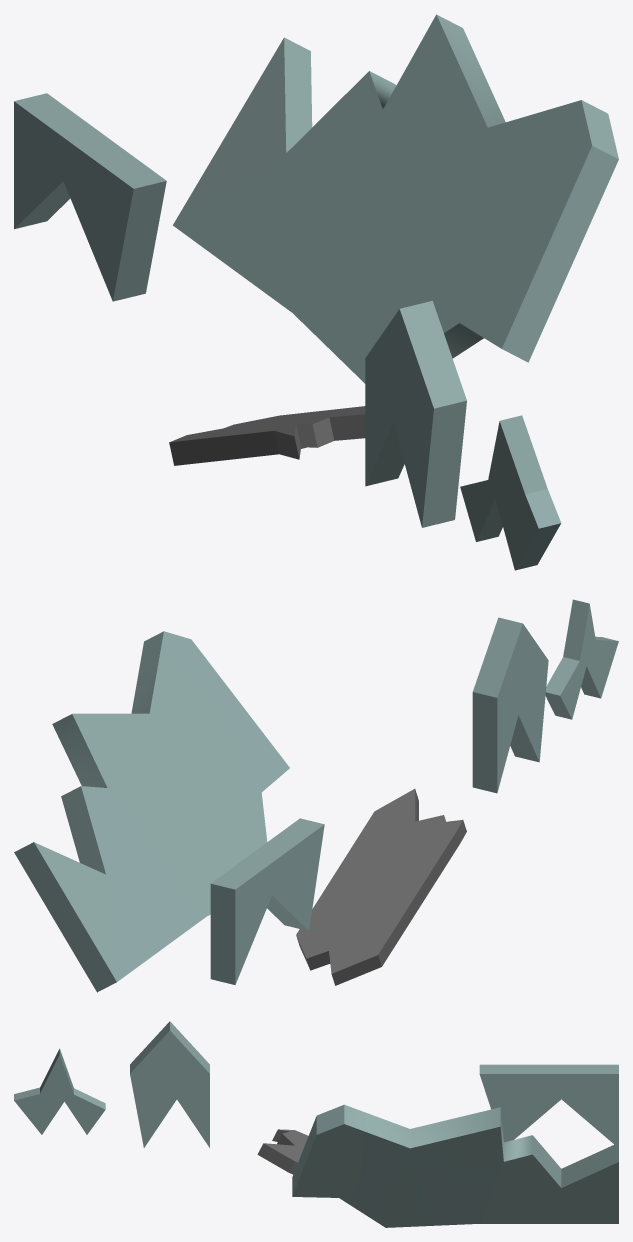
Rendered from BrokenWindow.fbx.
The picture shows the model from 3 angles, top to bottom: view 1: azimuth 30°, elevation 25°; view 2: azimuth 150°, elevation 25°; view 3: azimuth 270°, elevation 25°; orthographic projection. The views are drawn at different scales.
Visible parts, largest first — view 1: polySurface10, polySurface9, polySurface11, polySurface12, polySurface2; view 2: polySurface10, polySurface2, polySurface9, polySurface11, polySurface12; view 3: polySurface10, polySurface9, polySurface11, polySurface12, polySurface2.
Boxes of the visible parts, x1,y1,x2,y2 form: polySurface10: [173, 14, 618, 383]; polySurface9: [14, 93, 166, 301]; polySurface11: [365, 301, 466, 527]; polySurface12: [460, 415, 561, 570]; polySurface2: [169, 406, 365, 465]; polySurface10: [14, 631, 289, 992]; polySurface2: [296, 789, 466, 985]; polySurface9: [210, 818, 324, 984]; polySurface11: [472, 617, 548, 793]; polySurface12: [545, 599, 618, 719]; polySurface10: [292, 1104, 618, 1227]; polySurface9: [479, 1064, 618, 1144]; polySurface11: [130, 1021, 209, 1147]; polySurface12: [14, 1048, 105, 1134]; polySurface2: [257, 1129, 308, 1174].
Bounding box in the file's own units: 150 × 130 × 358.
